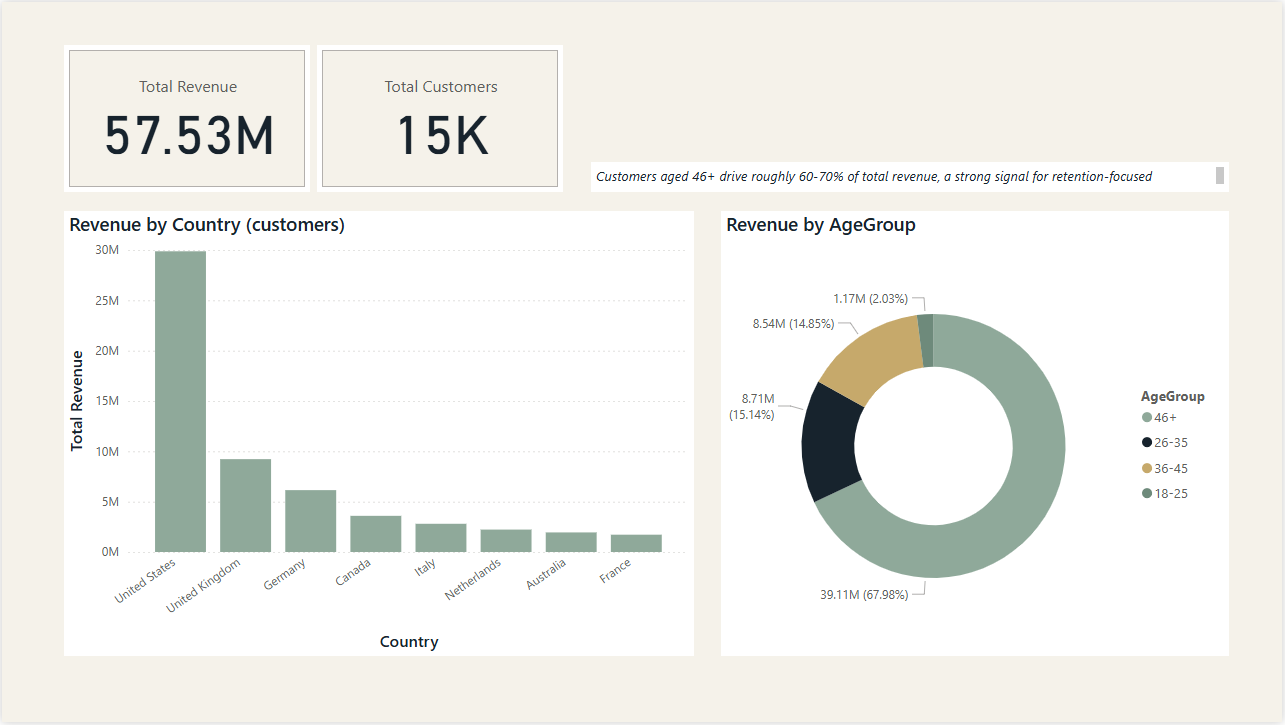

This screenshot's page, from the dashboard's own definition file:
{"tool":"powerbi","page":{"name":"Customer performance","canvas":[1280,720],"ordinal":3},"visuals":[{"type":"columnChart","title":"Revenue by Country (customers)","fields":{"Category":["customers.Country"],"Y":["sales.Total Revenue"]},"box":[62,209,630,445],"z":0},{"type":"donutChart","title":"Revenue by AgeGroup","fields":{"Category":["customers.AgeGroup"],"Y":["sales.Total Revenue"]},"box":[719,209,508,445],"z":1000},{"type":"cardVisual","fields":{"Data":["sales.Total Revenue"]},"box":[62,43,246,147],"z":2000},{"type":"textbox","box":[589,160,638,30],"z":3000},{"type":"cardVisual","fields":{"Data":["customers.Total Customers"]},"box":[315,43,246,147],"z":3001}]}

Visuals, with their boxes in screenshot pixels (x1, y1, x2, y2), scaled from the page's 1280x720 canvas onto the 1285x725 screenshot:
"Revenue by Country (customers)" columnChart: [left=62, top=210, right=695, bottom=659]
"Revenue by AgeGroup" donutChart: [left=722, top=210, right=1232, bottom=659]
cardVisual - sales.Total Revenue: [left=62, top=43, right=309, bottom=191]
textbox: [left=591, top=161, right=1232, bottom=191]
cardVisual - customers.Total Customers: [left=316, top=43, right=563, bottom=191]
